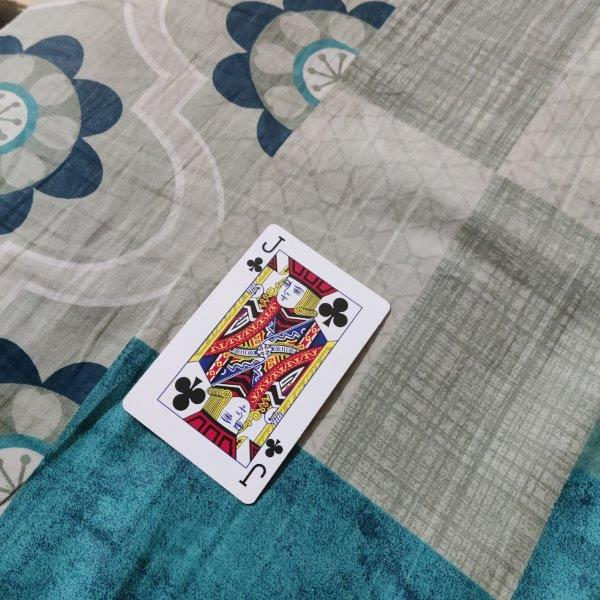Jack of Clubs: (122, 223, 392, 505)
